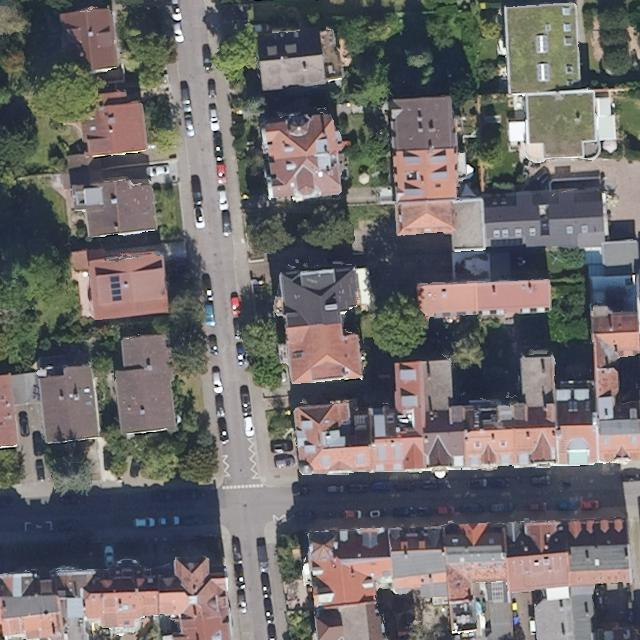PV: (110, 275, 121, 301)
